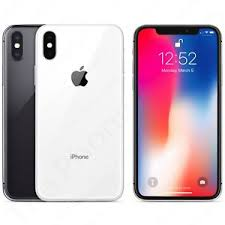iphone: (1, 19, 126, 203), (129, 21, 223, 202)
iphone10: (2, 21, 128, 205), (130, 19, 224, 200)
